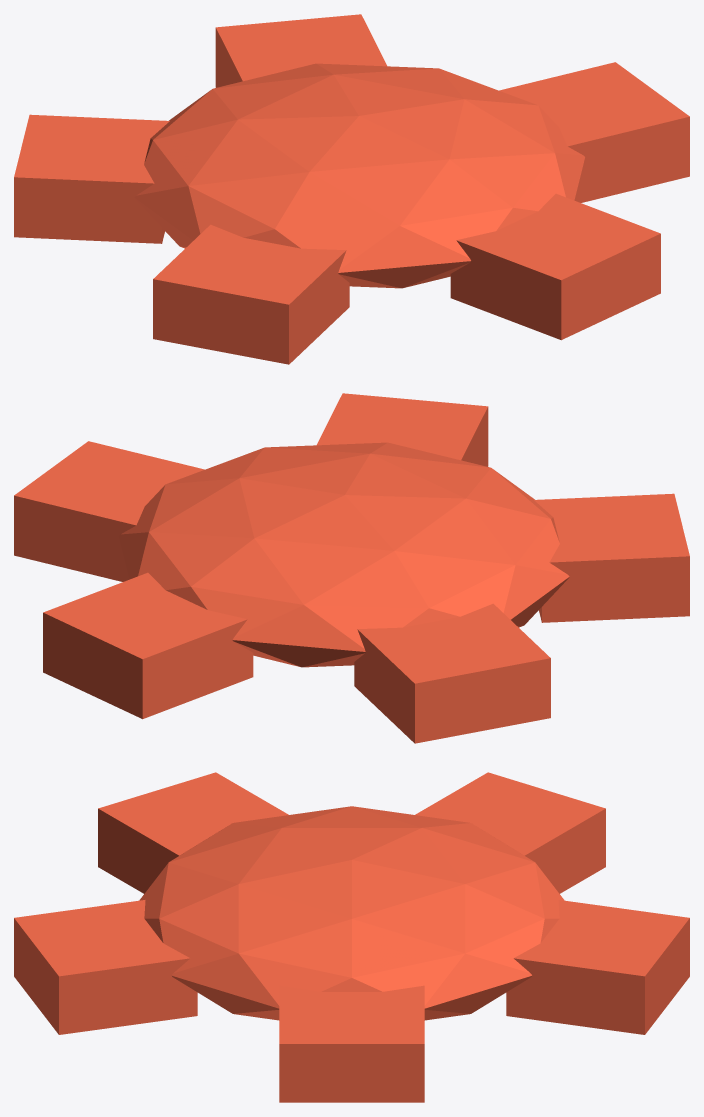
File: Scuba_Starfish.fbx
3 renders of one model, top to bottom at view 1: azimuth 30°, elevation 25°; view 2: azimuth 150°, elevation 25°; view 3: azimuth 270°, elevation 25°, orthographic. The views are drawn at different scales.
Parts seen in each view (by area): view 1: Starfish; view 2: Starfish; view 3: Starfish.
Boxes of the visible parts, x1,y1,x2,y2 form: Starfish: (14,14,689,364); Starfish: (14,393,689,743); Starfish: (14,772,689,1102).
Bounding box in the file's own units: 0.3973 × 0.08 × 0.4177.
